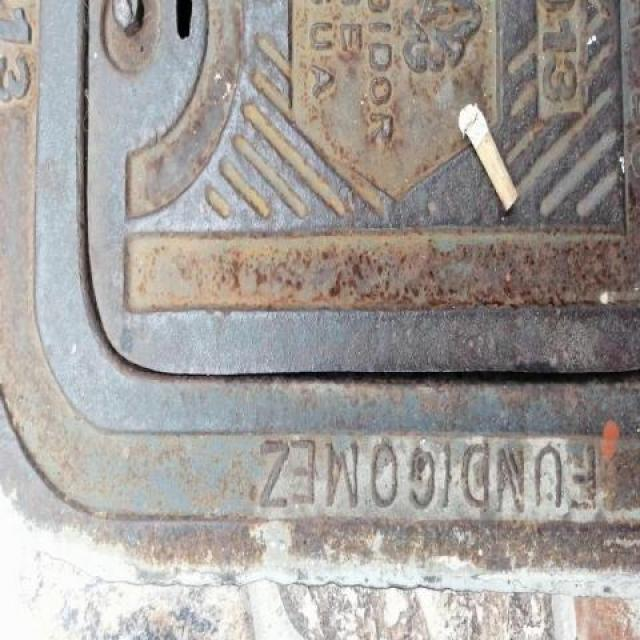non-organic waste: (453, 98, 520, 218)
